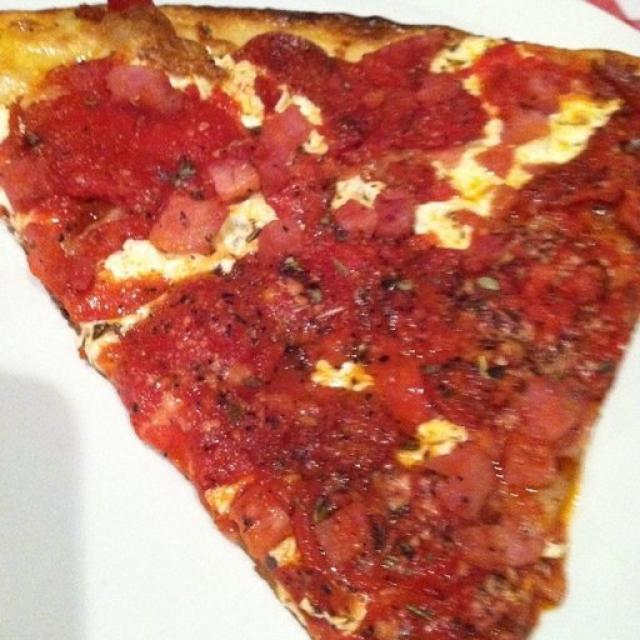Ham: (489, 79, 553, 168), (157, 185, 221, 256), (480, 431, 552, 487), (454, 509, 536, 556), (441, 445, 489, 520), (120, 62, 191, 112), (222, 494, 288, 546), (513, 381, 570, 439), (346, 188, 415, 231), (261, 98, 305, 162), (252, 200, 299, 256), (210, 159, 253, 195)
Pizza: (0, 0, 640, 640)
